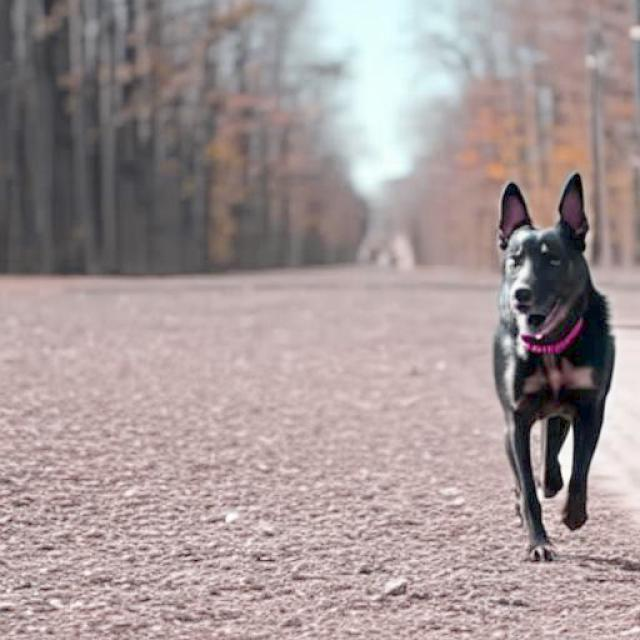Dog: (492, 172, 617, 564)
